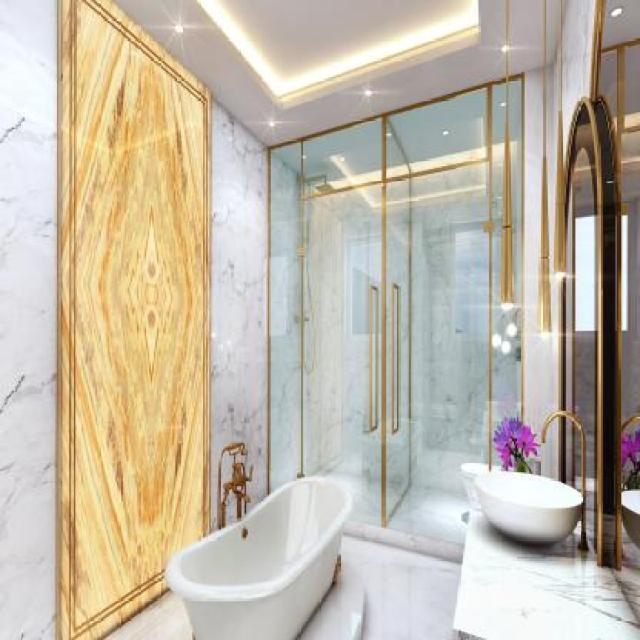floor: (291, 536, 485, 640)
